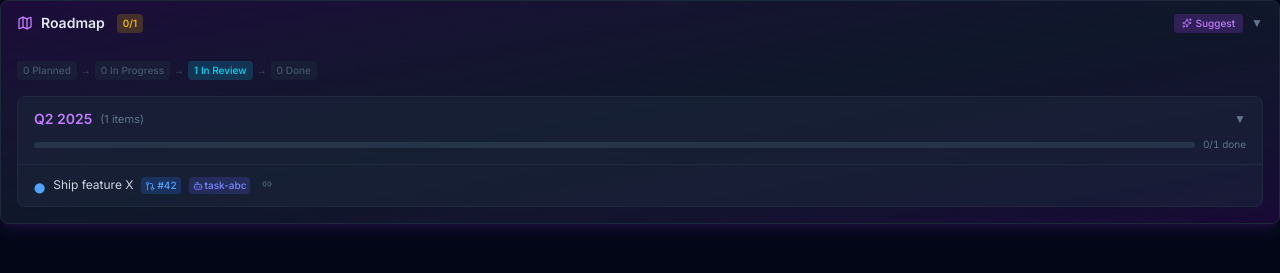
Test case: RoadmapSection link editor › clears existing links via the Clear button
Check: the link "#42" is shown, box [142,177,181,194]
Click the button titled "Link to a PR or Agent Task Queue entry" at [268, 184], box [258,177,276,191]
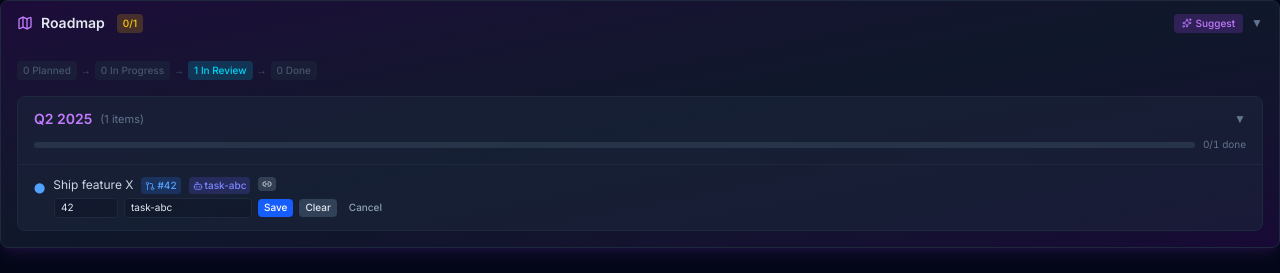
Click the button "Clear" at [318, 208], box [299,199,337,217]
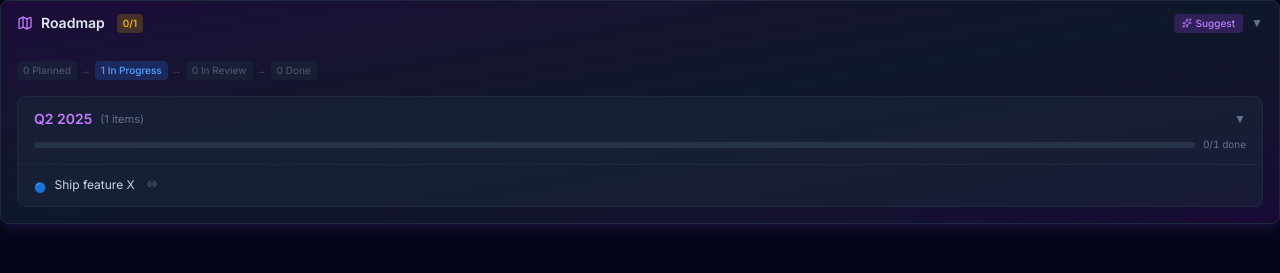
Check: the link "#42" is gone
